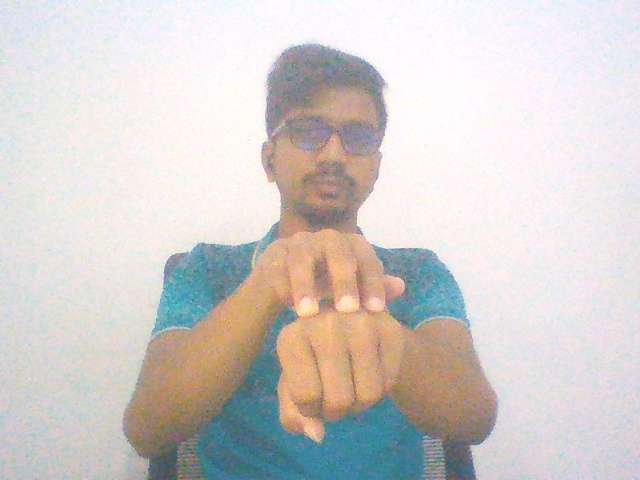papaya: (235, 209, 422, 460)
